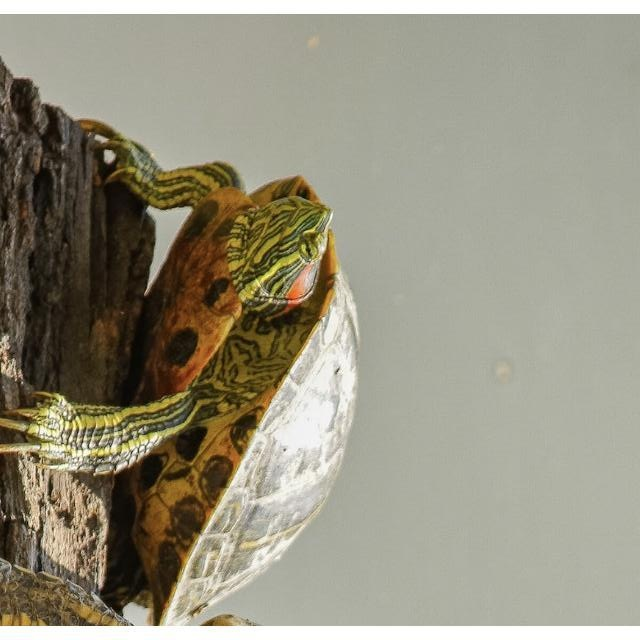turtle: (3, 120, 361, 623)
